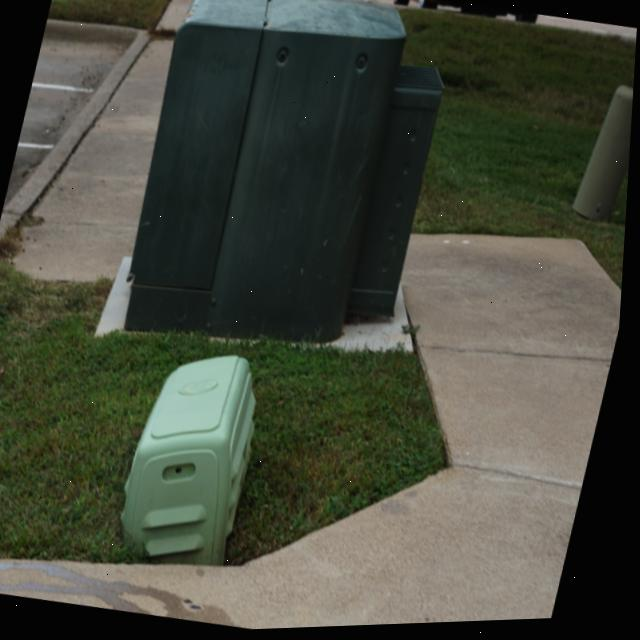Automobile: (394, 0, 538, 26)
Obstacle: (127, 0, 445, 345), (129, 358, 260, 566), (575, 90, 635, 224)
Road: (4, 19, 143, 213)
Sidewalk: (0, 237, 625, 632), (0, 33, 173, 282)
